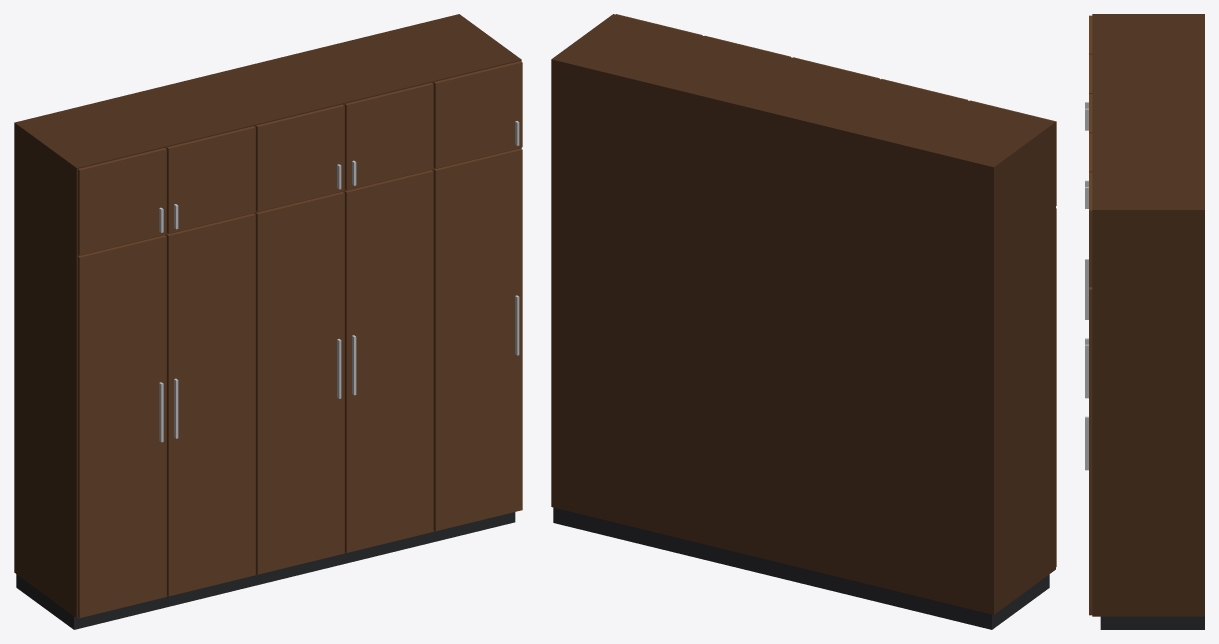
File: gardirop-2400-ceviz.glb
3 views of the same model, side by side, from view 1: azimuth 30°, elevation 25°; view 2: azimuth 150°, elevation 25°; view 3: azimuth 270°, elevation 25° (orthographic). The views are drawn at different scales.
Parts seen in each view (by area): view 1: mobilya; view 2: mobilya; view 3: mobilya.
Boxes of the visible parts, x1,y1,x2,y2 form: mobilya: [14, 14, 522, 629]; mobilya: [551, 14, 1056, 629]; mobilya: [1085, 14, 1204, 629].
Size of the model in its own units: 2.4 by 2.4 by 0.62.
